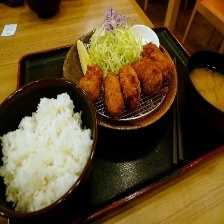rice: (0, 93, 92, 213)
